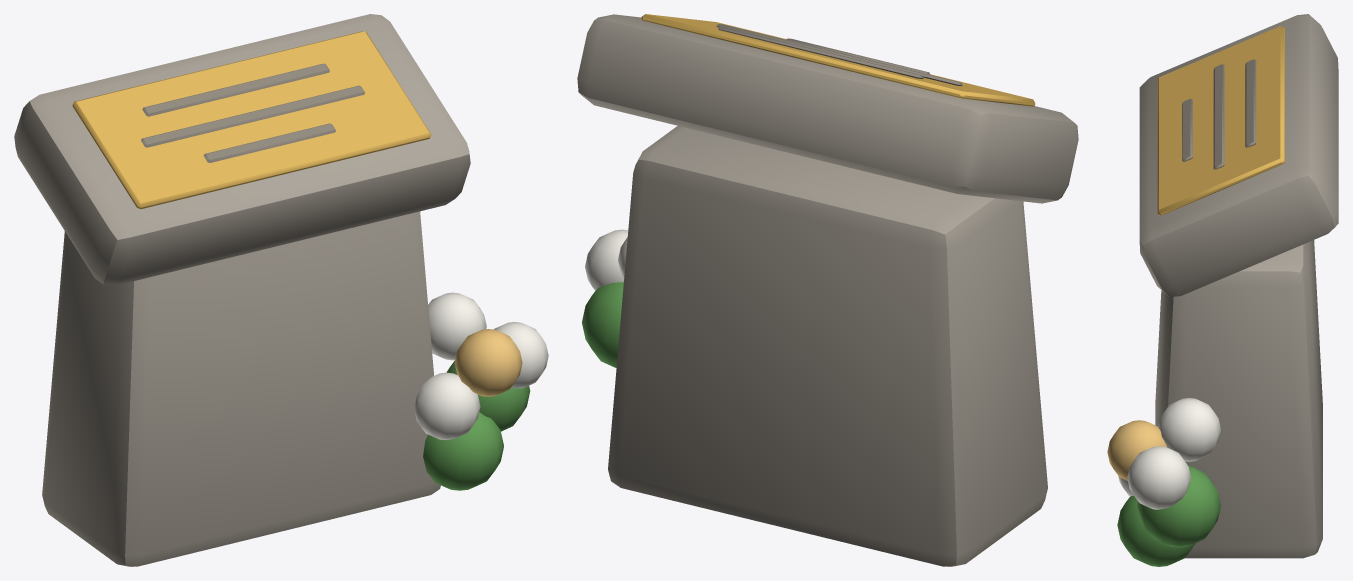
The model's file is memorial_plaque.glb.
3 views of the same model, side by side, from view 1: azimuth 30°, elevation 25°; view 2: azimuth 150°, elevation 25°; view 3: azimuth 270°, elevation 25° (orthographic). The views are drawn at different scales.
Parts seen in each view (by area): view 1: stone, gold, sheet, stone_dark, leaf, poster_c; view 2: stone, gold, leaf, stone_dark, sheet; view 3: stone, gold, sheet, leaf, stone_dark, poster_c.
Part boxes in pixels (left/top/right/bottom): stone: left=14, top=14, right=470, bottom=566; gold: left=72, top=31, right=431, bottom=209; sheet: left=414, top=292, right=548, bottom=440; stone_dark: left=141, top=63, right=364, bottom=162; leaf: left=423, top=361, right=530, bottom=490; poster_c: left=454, top=329, right=522, bottom=396; stone: left=577, top=14, right=1078, bottom=566; gold: left=641, top=14, right=1035, bottom=106; leaf: left=582, top=282, right=623, bottom=367; stone_dark: left=716, top=24, right=962, bottom=86; sheet: left=585, top=229, right=628, bottom=290; stone: left=1139, top=14, right=1338, bottom=558; gold: left=1157, top=26, right=1284, bottom=215; sheet: left=1118, top=398, right=1220, bottom=509; leaf: left=1117, top=465, right=1220, bottom=566; stone_dark: left=1182, top=59, right=1256, bottom=169; poster_c: left=1107, top=420, right=1166, bottom=480.
Bounding box in the file's own units: 0.482 × 0.4407 × 0.2318.
